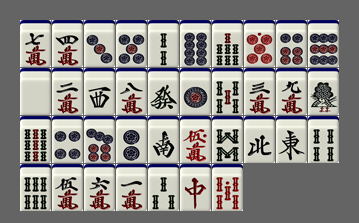0m: (180, 116, 211, 163)
0p: (244, 20, 275, 67)
0s: (212, 164, 243, 211)
1m: (116, 164, 147, 211)
1p: (180, 68, 211, 115)
1s: (308, 68, 339, 115)
1z: (276, 116, 307, 163)
2m: (52, 68, 83, 115)
2p: (116, 116, 147, 163)
2s: (148, 20, 179, 67)
2z: (148, 116, 179, 163)
3m: (244, 68, 275, 115)
3p: (84, 20, 115, 67)
3s: (148, 164, 179, 211)
3z: (84, 68, 115, 115)
4m: (52, 20, 83, 67)
4p: (52, 116, 83, 163)
4s: (308, 116, 339, 163)
4z: (244, 116, 275, 163)
5m: (52, 164, 83, 211)
5p: (116, 20, 147, 67)
5s: (212, 68, 243, 115)
5z: (20, 68, 51, 115)
6m: (84, 164, 115, 211)
6p: (276, 20, 307, 67)
6s: (20, 164, 51, 211)
6z: (148, 68, 179, 115)
7m: (20, 20, 51, 67)
7p: (84, 116, 115, 163)
7s: (212, 20, 243, 67)
7z: (180, 164, 211, 211)
8m: (116, 68, 147, 115)
8p: (180, 20, 211, 67)
8s: (212, 116, 243, 163)
9m: (276, 68, 307, 115)
9p: (308, 20, 339, 67)
9s: (20, 116, 51, 163)
